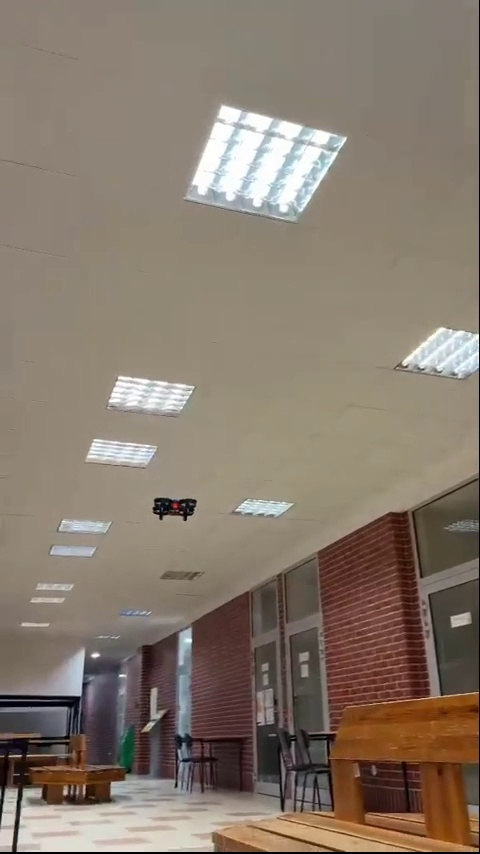drone: (153, 490, 204, 526)
